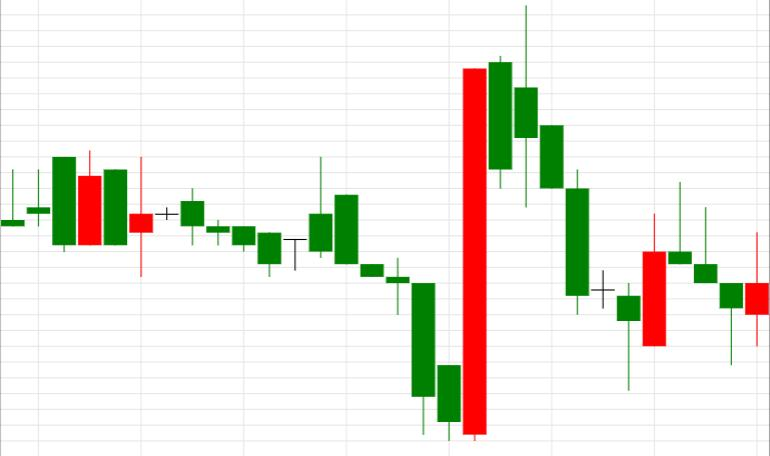bullish_engulfing_rise: (309, 68, 487, 441)
